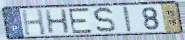8: (141, 6, 161, 31)
E: (67, 7, 94, 35)
H: (20, 8, 48, 37), (44, 8, 71, 35)
I: (121, 5, 133, 33)
S: (92, 6, 117, 34)
